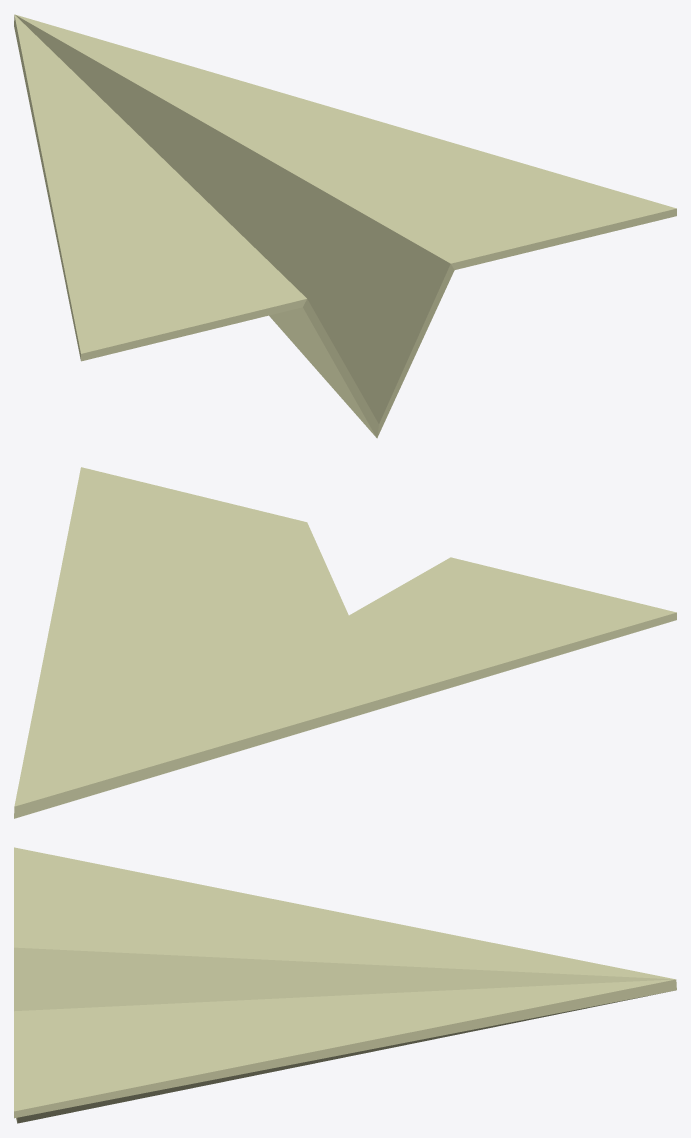
Rendered from girisimcilik-sembol.fbx.
3 renders of one model, top to bottom at view 1: azimuth 30°, elevation 25°; view 2: azimuth 150°, elevation 25°; view 3: azimuth 270°, elevation 25°, orthographic. The views are drawn at different scales.
Visible parts, largest first — view 1: girisimcilik-sembol; view 2: girisimcilik-sembol; view 3: girisimcilik-sembol.
Boxes of the visible parts, x1,y1,x2,y2 form: girisimcilik-sembol: (14,14,676,438); girisimcilik-sembol: (14,467,676,818); girisimcilik-sembol: (14,847,676,1123).
Size of the model in its own units: 82.42 by 20.98 by 87.43.
